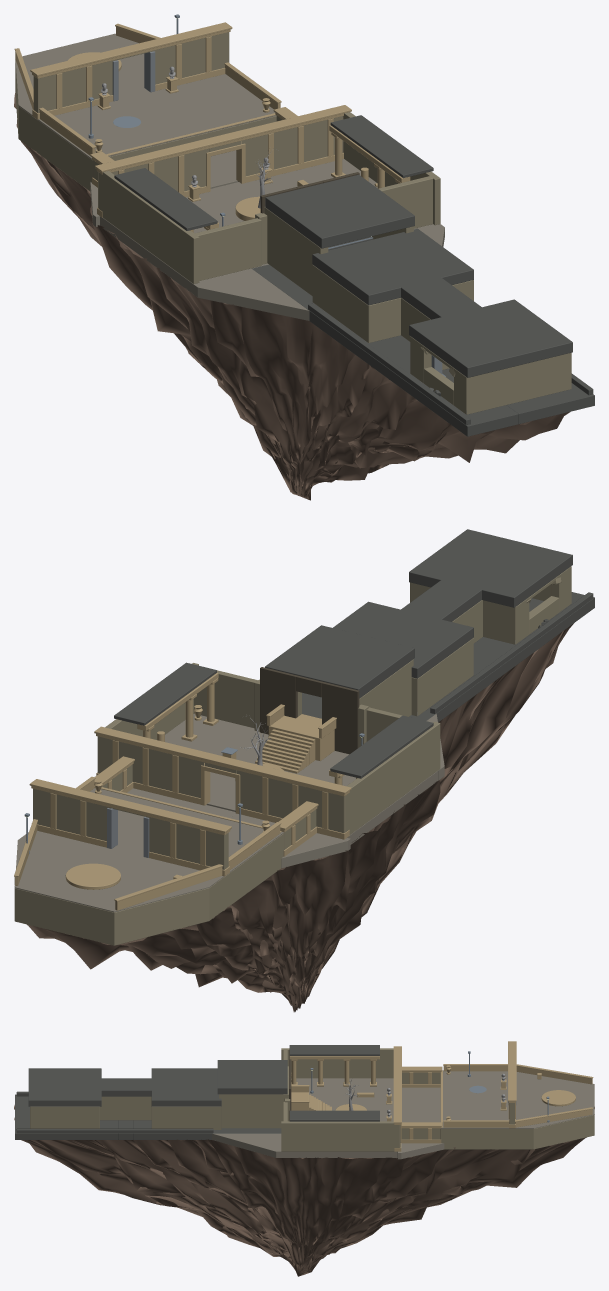
The model's file is a_vault.glb.
3 renders of one model, top to bottom at view 1: azimuth 30°, elevation 25°; view 2: azimuth 150°, elevation 25°; view 3: azimuth 270°, elevation 25°, orthographic. The views are drawn at different scales.
Visible parts, largest first — view 1: island_a_vault; view 2: island_a_vault; view 3: island_a_vault.
Part boxes in pixels (x1,y1,x2,y2): island_a_vault: (14, 14, 594, 500); island_a_vault: (14, 529, 594, 1012); island_a_vault: (14, 1041, 594, 1276).
Size of the model in its own units: 25.72 by 31.44 by 81.2.
